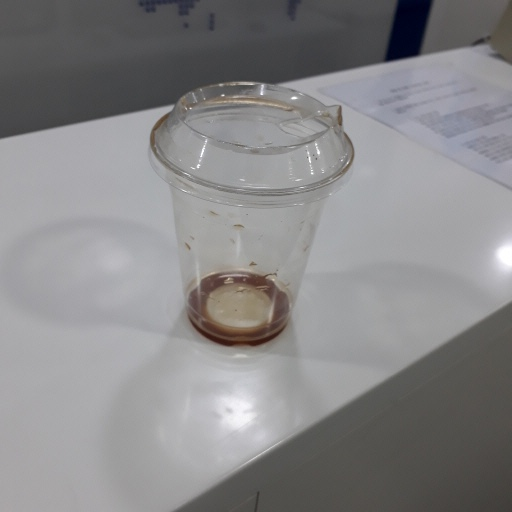Plastic_2: (146, 81, 354, 344)
